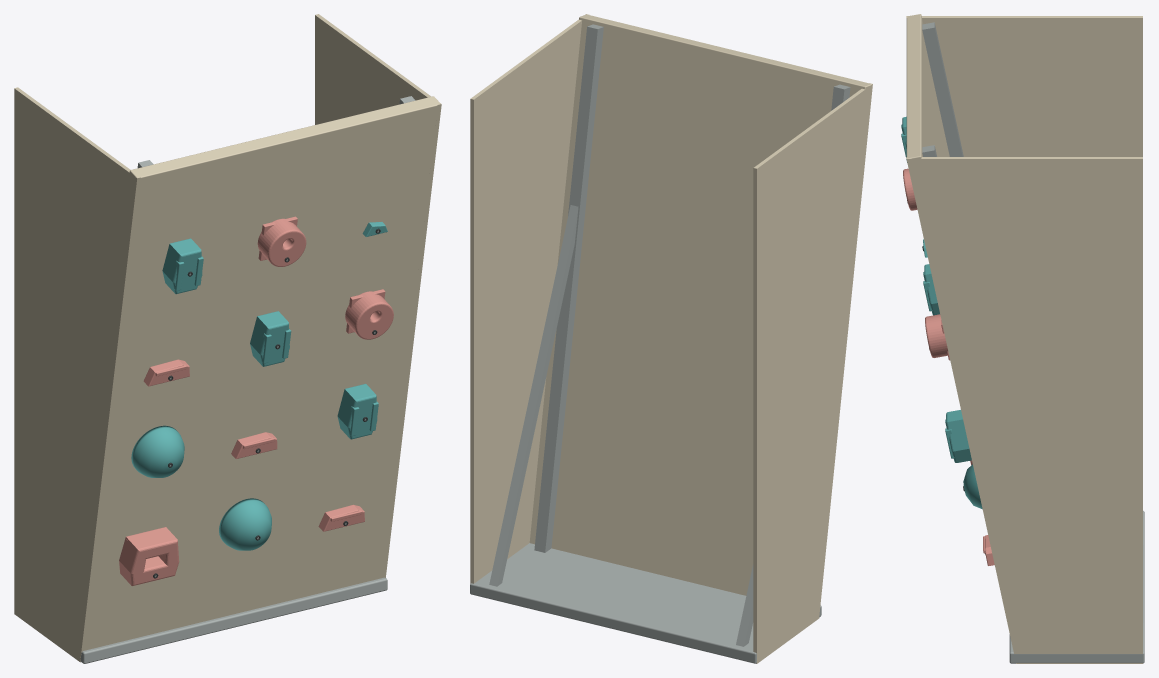
The model's file is indoor-climbing-and-bouldering-gym-indoor-climbing-and-195ae809__31516.glb.
3 views of the same model, side by side, from view 1: azimuth 30°, elevation 25°; view 2: azimuth 150°, elevation 25°; view 3: azimuth 270°, elevation 25° (orthographic). The views are drawn at different scales.
Visible parts, largest first — view 1: indoor-climbing-and-bouldering-gym-overhang-wall-panel; view 2: indoor-climbing-and-bouldering-gym-overhang-wall-panel; view 3: indoor-climbing-and-bouldering-gym-overhang-wall-panel.
Part boxes in pixels (x1=…): indoor-climbing-and-bouldering-gym-overhang-wall-panel: x1=14, y1=14, x2=441, y2=663; indoor-climbing-and-bouldering-gym-overhang-wall-panel: x1=470, y1=14, x2=872, y2=663; indoor-climbing-and-bouldering-gym-overhang-wall-panel: x1=901, y1=14, x2=1144, y2=663.
Bounding box in the file's own units: 2 × 3.33 × 1.44.
